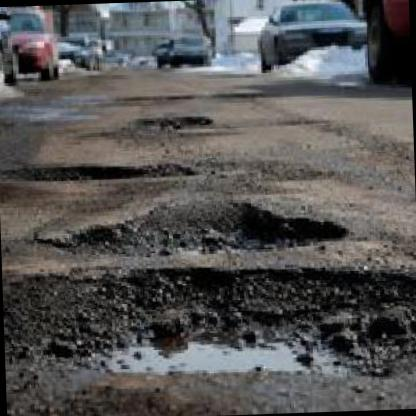pothole: (2, 257, 416, 403), (28, 194, 350, 262), (0, 153, 201, 184), (126, 111, 214, 135)
